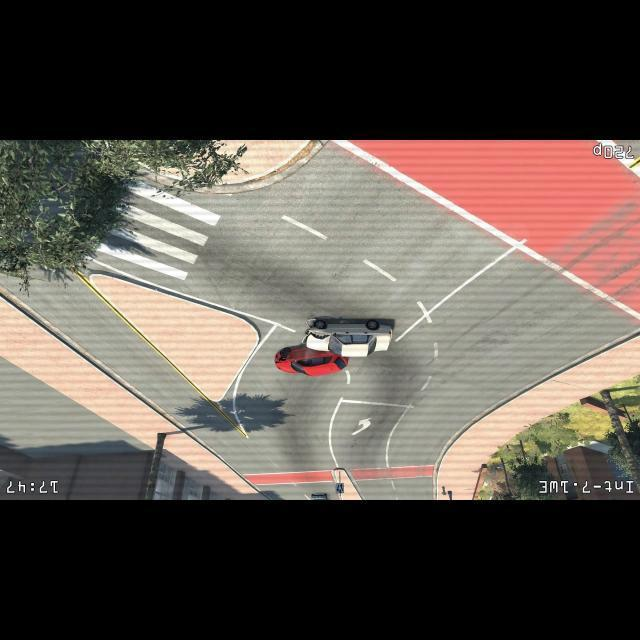moderate: (274, 316, 397, 379)
